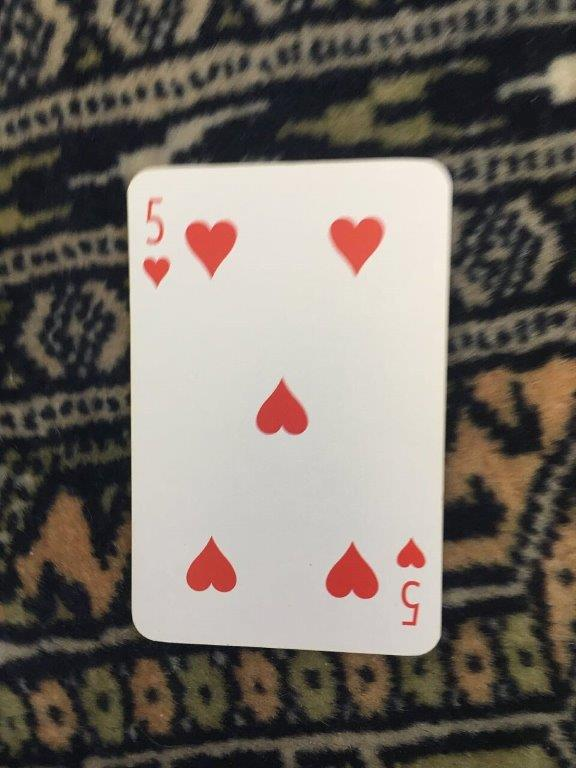5H: (122, 154, 457, 659)
